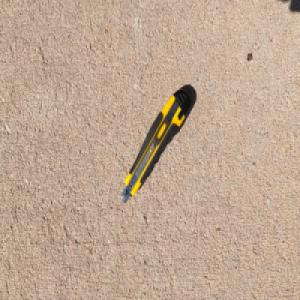Cutter: (119, 86, 192, 205)
